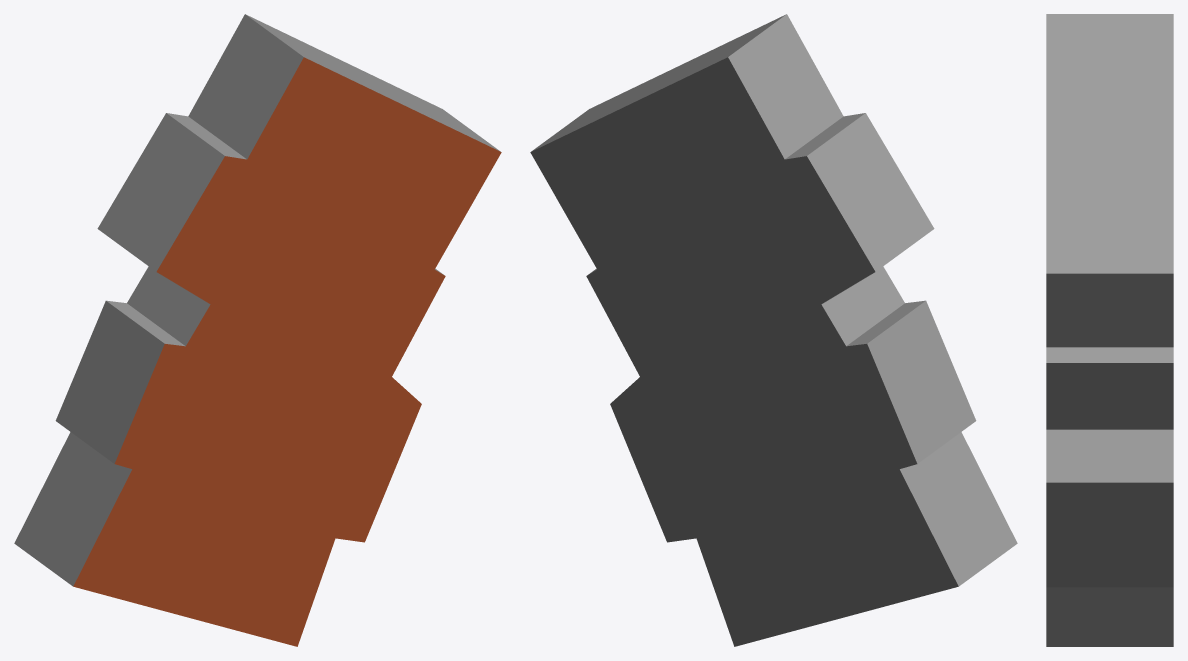
The model's file is construction_3640_assumed_A_Casa_h6m.obj.
The picture shows the model from 3 angles, left to right: view 1: azimuth 30°, elevation 25°; view 2: azimuth 150°, elevation 25°; view 3: azimuth 270°, elevation 25°; orthographic projection. The views are drawn at different scales.
Parts seen in each view (by area): view 1: construction_3640_assumed_A_Casa; view 2: construction_3640_assumed_A_Casa; view 3: construction_3640_assumed_A_Casa.
Part boxes in pixels (box(x1,y1,x2,y2)): construction_3640_assumed_A_Casa: box(14, 14, 501, 646); construction_3640_assumed_A_Casa: box(530, 14, 1017, 646); construction_3640_assumed_A_Casa: box(1046, 14, 1173, 646).
Bounding box in the file's own units: 25.19 × 33.04 × 6.
